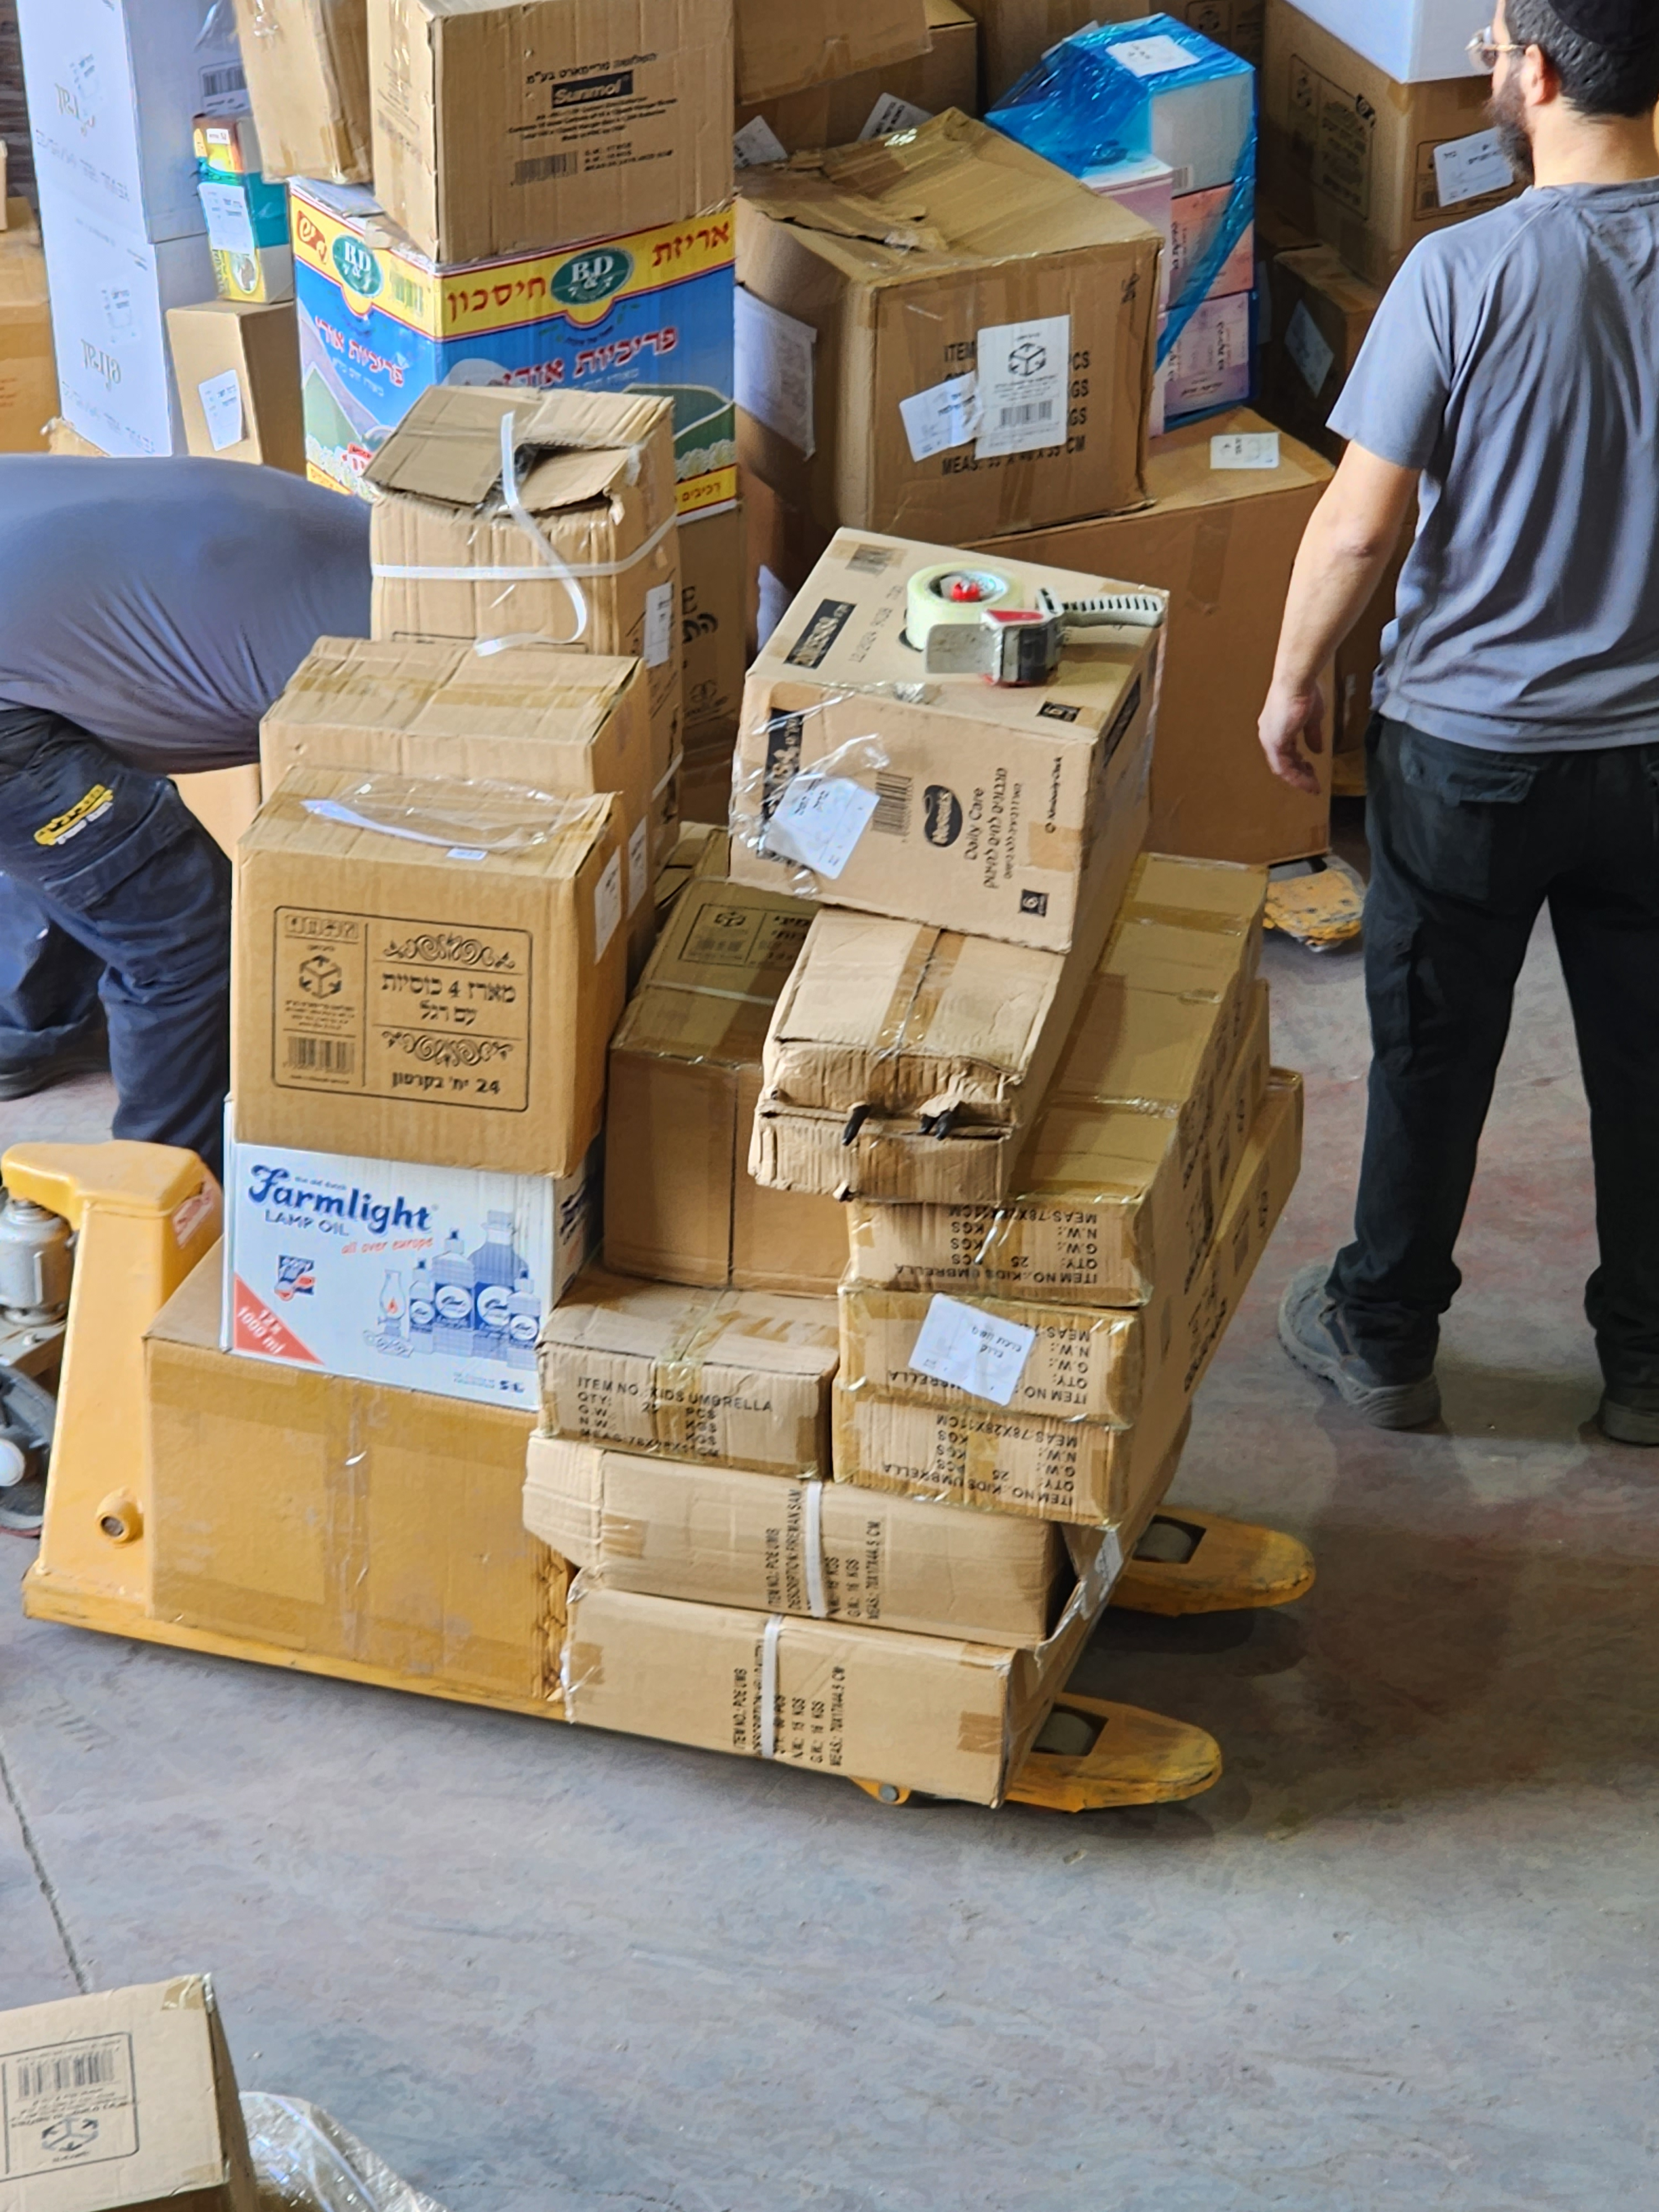box: (96, 1275, 573, 1803), (92, 773, 622, 1214), (789, 428, 1192, 944), (708, 134, 1225, 528), (420, 1376, 1117, 1653), (532, 1568, 1075, 1851), (178, 559, 674, 859), (343, 280, 681, 709), (528, 1350, 840, 1461)
